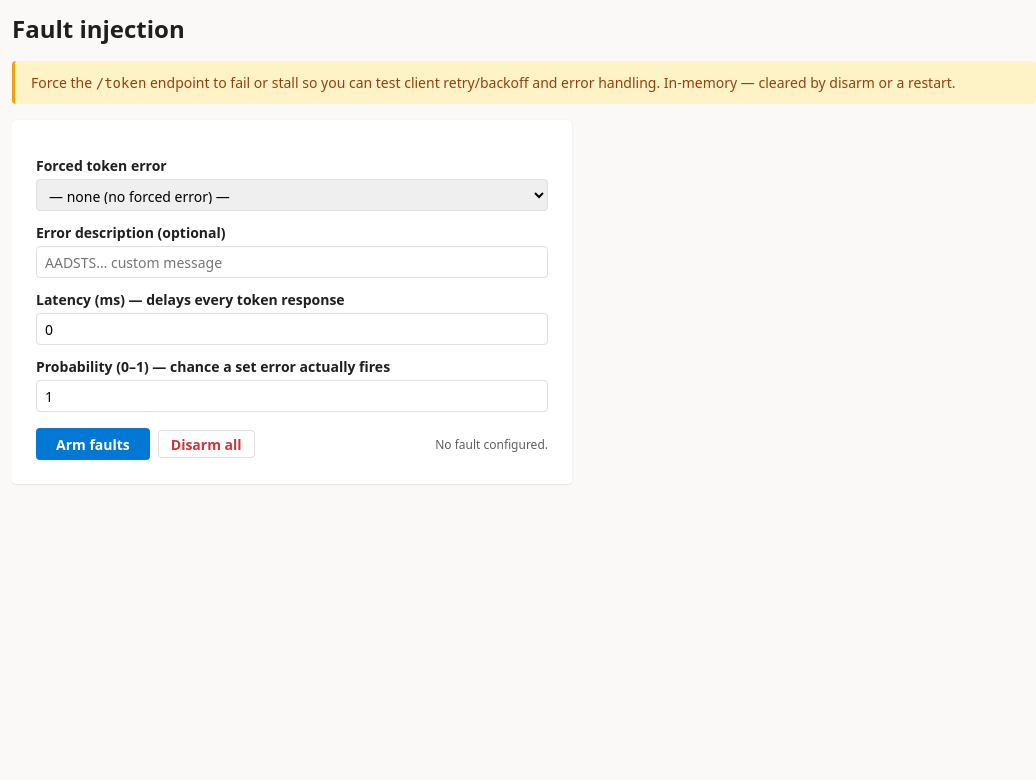
it: Faults view › arms faults, coercing latency and probability to numbers
Expected: the text "No fault configured." is shown, [435,436,548,452]
Select "temporarily_unavailable → 503" in the dropdown labelled "Forced token error" at [292, 195], box [36,179,548,211]
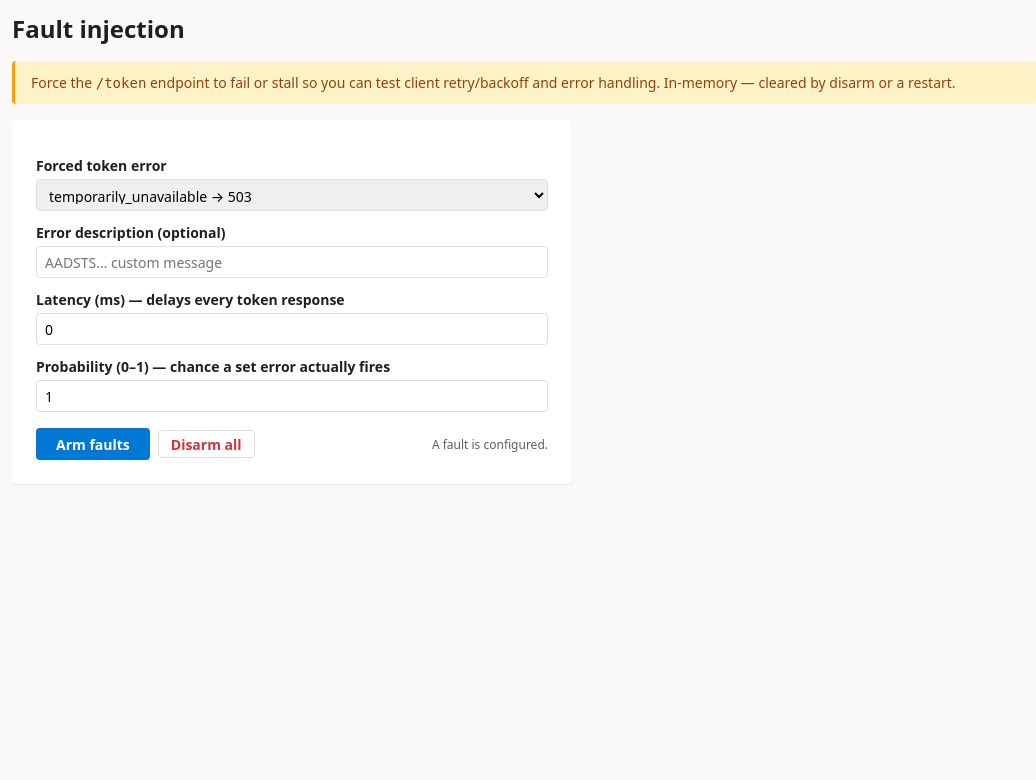
Replace the text in the number field labelled "Latency (ms) — delays every token response" with "250" at [292, 329], box [36,313,548,345]
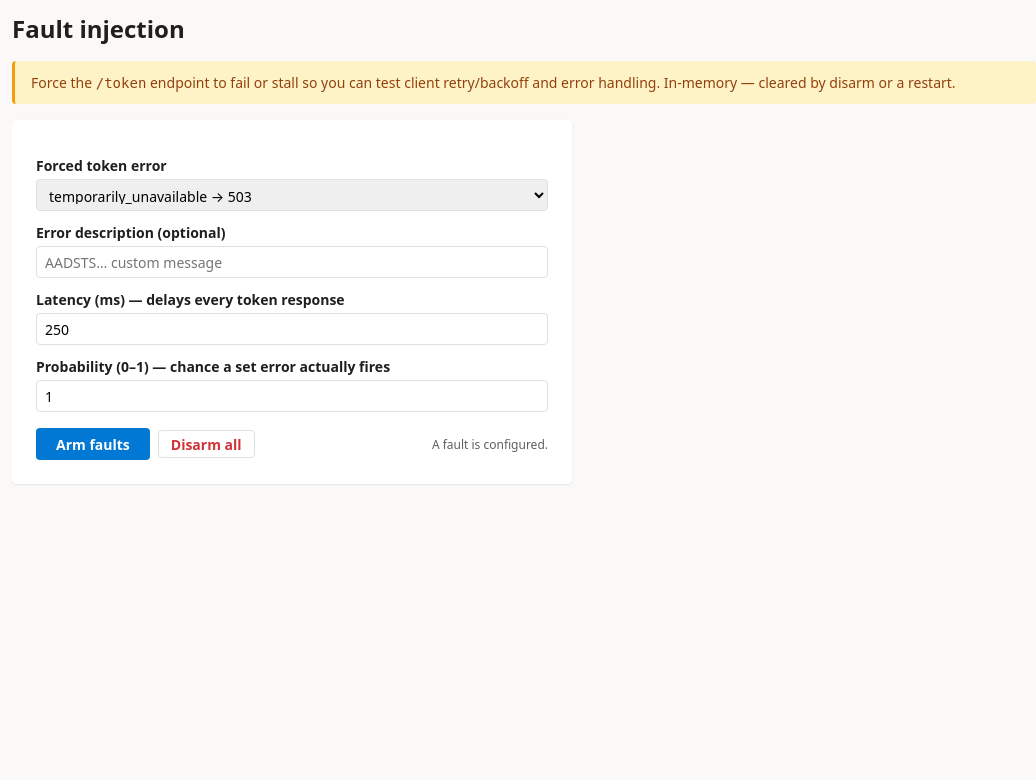
Replace the text in the number field labelled "Probability (0–1) — chance a set error actually fires" with "0.5" at [292, 396], box [36,380,548,412]
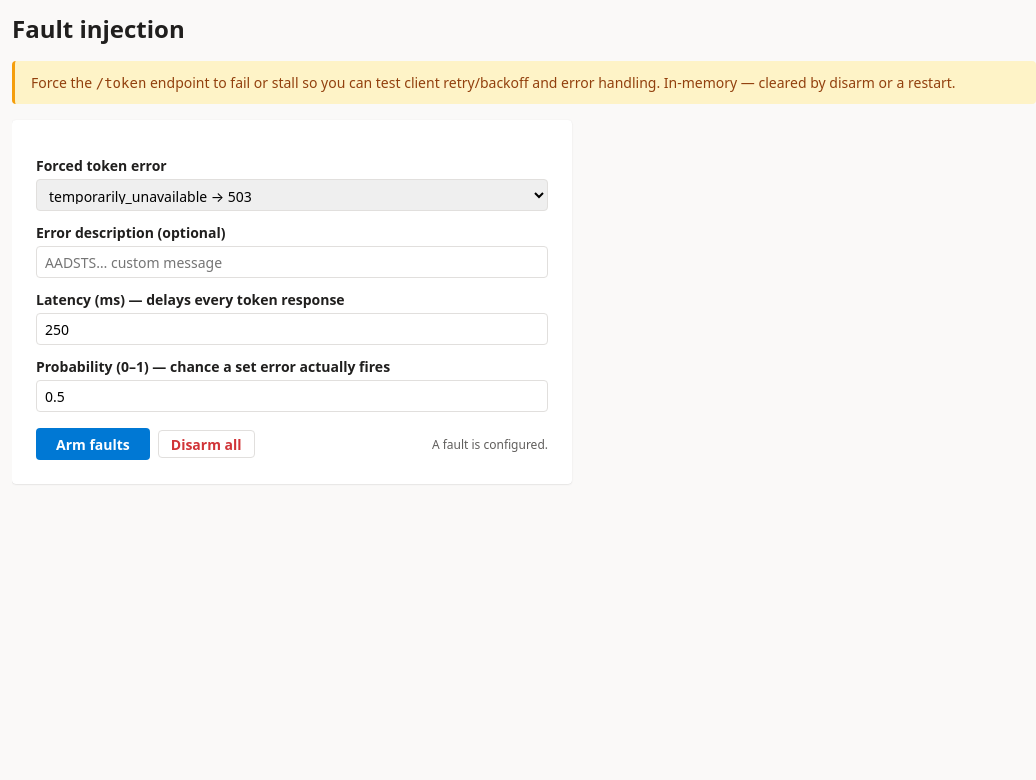
Click the button "Arm faults".
click(93, 444)  # box [36,428,150,460]
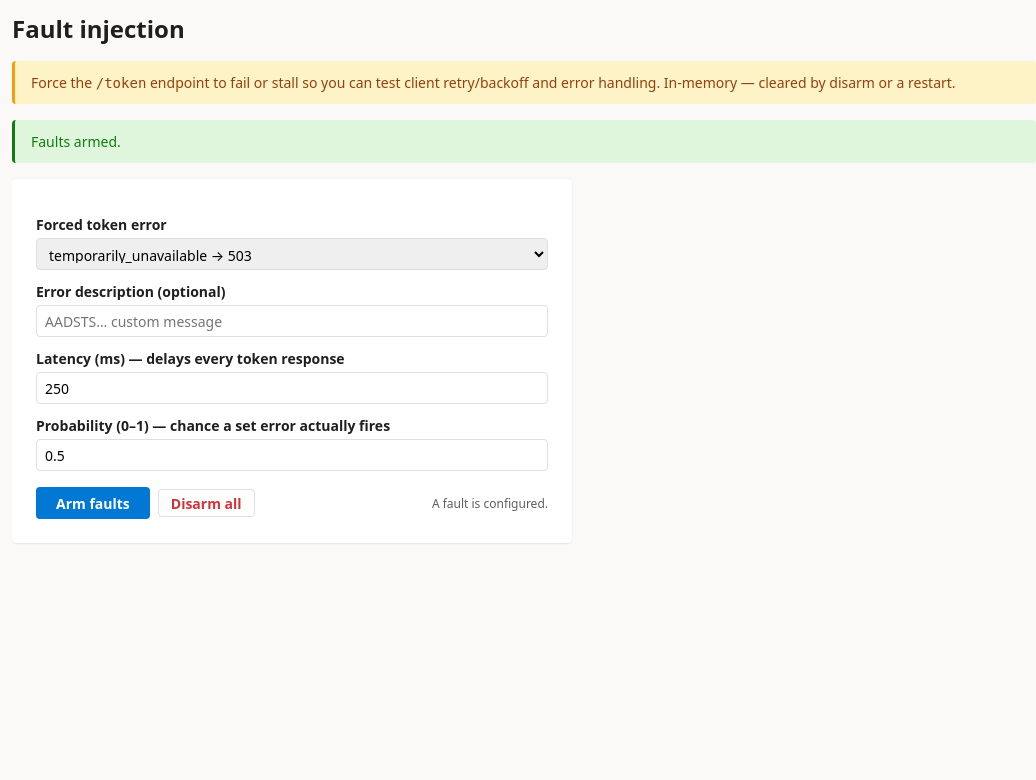
Now the text "Faults armed." is shown, box [12,120,1035,163]
